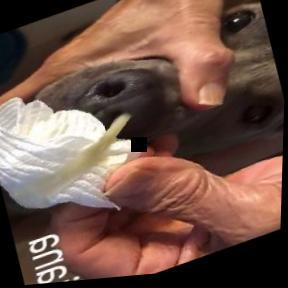nasal_discharge: (38, 99, 155, 196)
